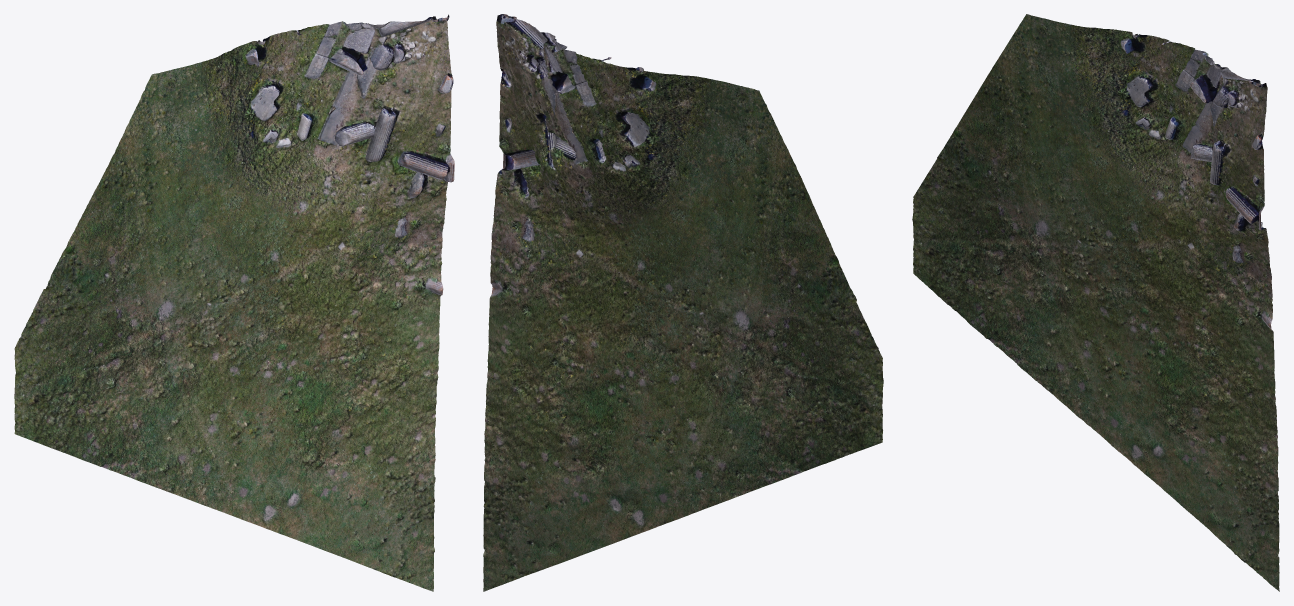
Rendered from Tile_16.fbx.
3 renders of one model, left to right at view 1: azimuth 30°, elevation 25°; view 2: azimuth 150°, elevation 25°; view 3: azimuth 330°, elevation 25°, orthographic. The views are drawn at different scales.
Visible parts, largest first — view 1: DefaultName; view 2: DefaultName; view 3: DefaultName.
Part boxes in pixels (bbox=[...]): DefaultName: bbox=[14, 14, 454, 591]; DefaultName: bbox=[483, 14, 883, 591]; DefaultName: bbox=[912, 14, 1279, 591].
Bounding box in the file's own units: 27.49 × 37.07 × 3.44.
1 material, 1 textured.
